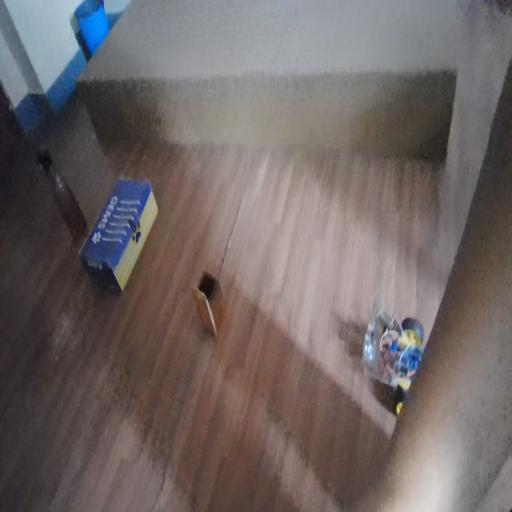Bottle: (35, 128, 84, 233)
car: (348, 290, 436, 397)
